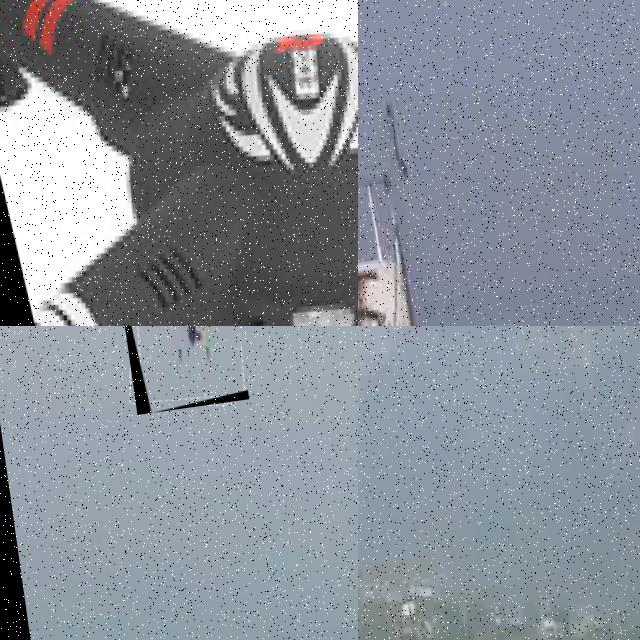drone: (0, 0, 358, 326), (114, 326, 249, 415)
